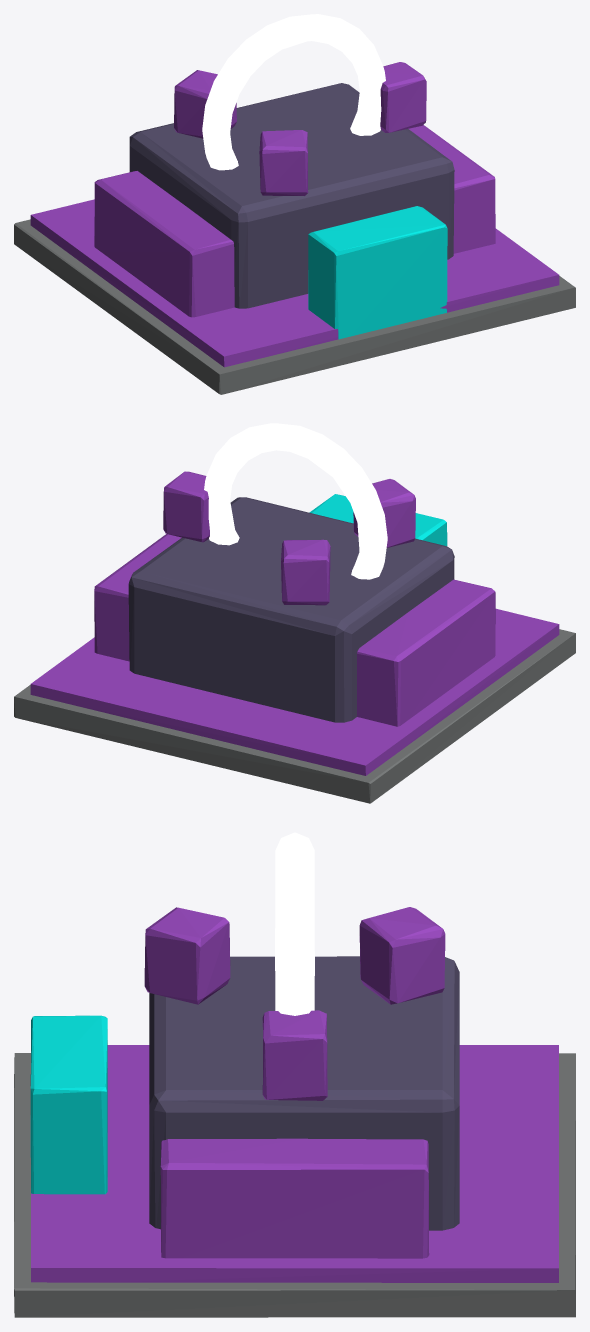
Rendered from SM_Chronolegion_CH_Barracks_LOD1.fbx.
3 views of the same model, one above another, from view 1: azimuth 30°, elevation 25°; view 2: azimuth 150°, elevation 25°; view 3: azimuth 270°, elevation 25° (orthographic). The views are drawn at different scales.
Parts seen in each view (by area): view 1: LOD01_SM_Chronolegion_CH_Barracks; view 2: LOD01_SM_Chronolegion_CH_Barracks; view 3: LOD01_SM_Chronolegion_CH_Barracks.
Part boxes in pixels (x1,y1,x2,y2): LOD01_SM_Chronolegion_CH_Barracks: [14, 14, 575, 394]; LOD01_SM_Chronolegion_CH_Barracks: [14, 423, 575, 803]; LOD01_SM_Chronolegion_CH_Barracks: [14, 832, 575, 1317].
Size of the model in its own units: 597 by 598 by 416.
